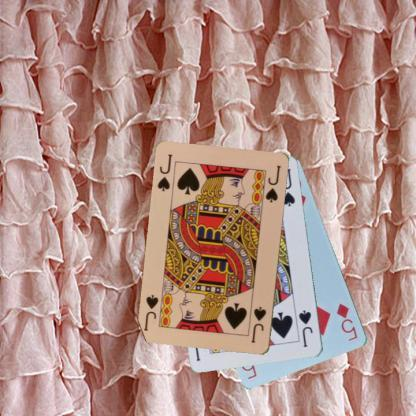5d: (334, 301, 360, 343)
Js: (248, 304, 268, 344), (155, 151, 174, 193), (296, 308, 314, 348)
